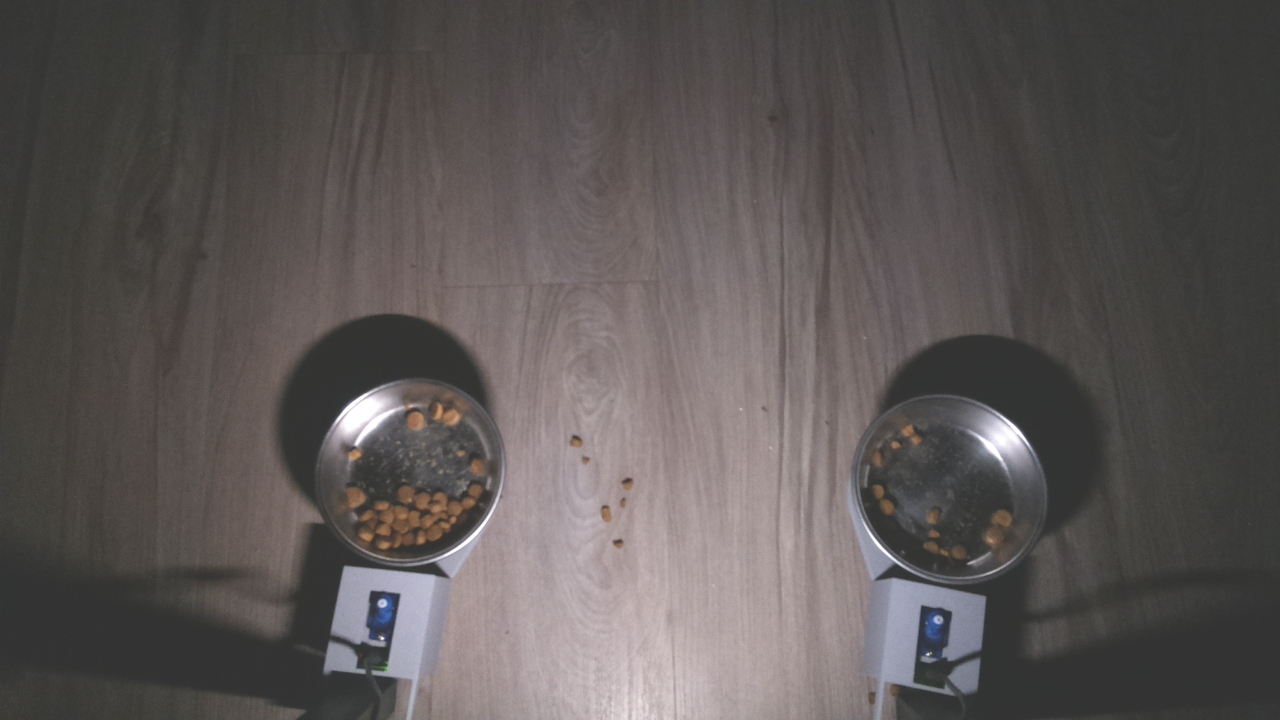open_bowl: (848, 387, 1050, 587), (309, 373, 508, 572)
